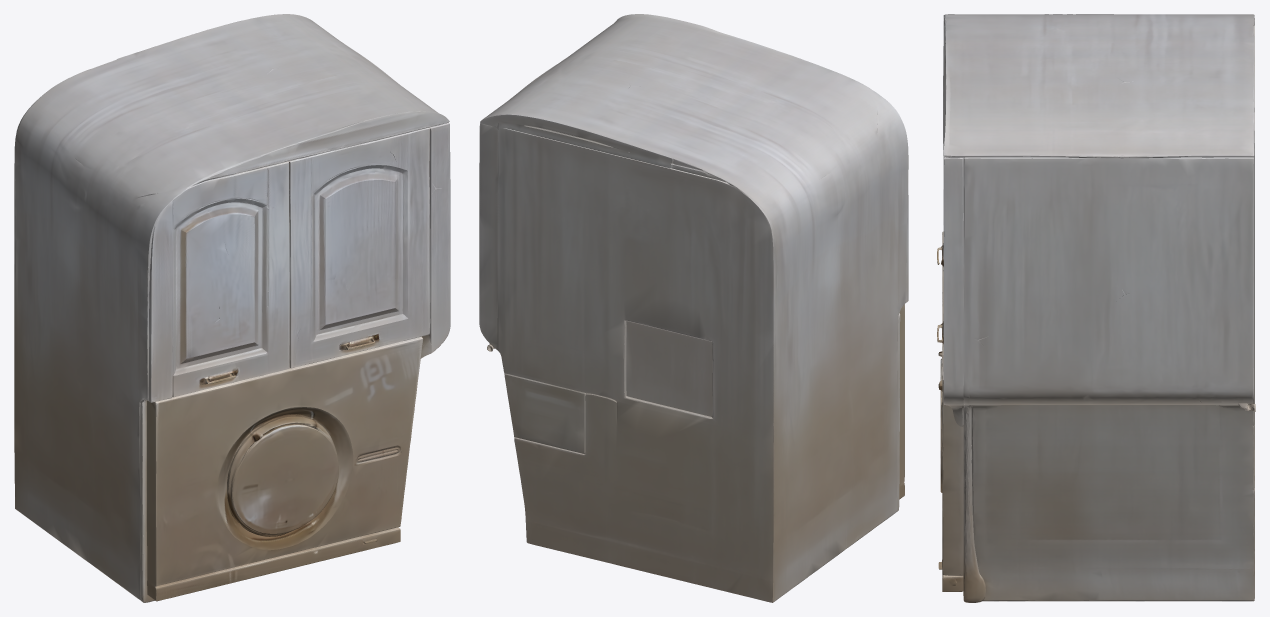
Rendered from cutting-boards.glb.
3 views of the same model, side by side, from view 1: azimuth 30°, elevation 25°; view 2: azimuth 150°, elevation 25°; view 3: azimuth 270°, elevation 25° (orthographic). The views are drawn at different scales.
Visible parts, largest first — view 1: model; view 2: model; view 3: model.
Boxes of the visible parts, x1=… form: model: x1=14, y1=14, x2=450, y2=602; model: x1=479, y1=14, x2=908, y2=602; model: x1=937, y1=14, x2=1255, y2=602.
Size of the model in its own units: 1.37 by 1.89 by 1.1.
Materials: 1 (1 with a texture image).
